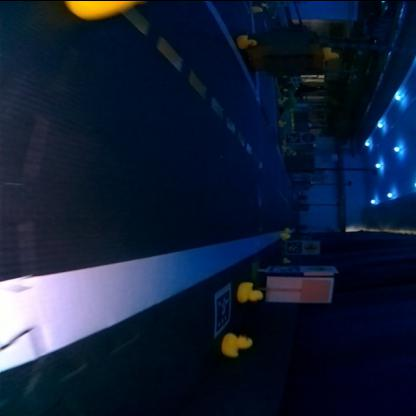Duckie: (222, 332, 253, 355), (239, 282, 263, 300), (238, 34, 258, 47), (325, 46, 338, 58), (254, 4, 263, 12), (278, 97, 286, 103), (284, 232, 292, 238), (279, 119, 287, 124)
QR code: (213, 282, 233, 332), (270, 266, 300, 272), (288, 240, 304, 251)
